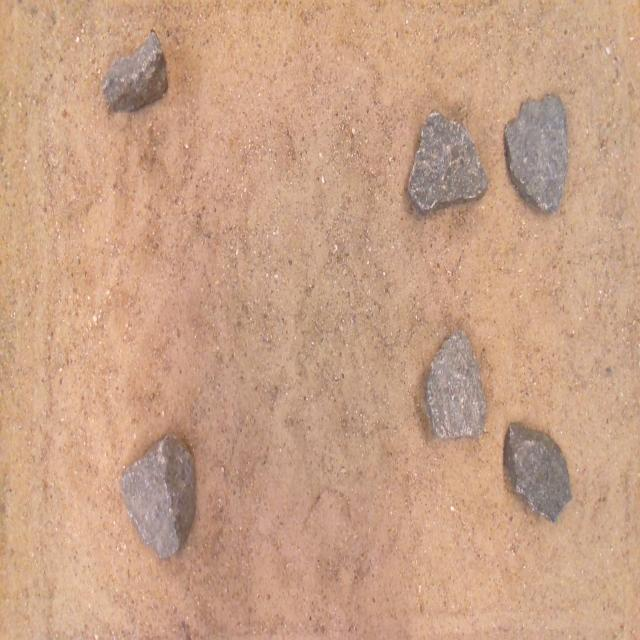rock: (121, 434, 195, 558), (408, 111, 488, 213), (504, 94, 568, 212), (504, 423, 572, 521), (425, 331, 486, 438), (102, 30, 168, 111)
